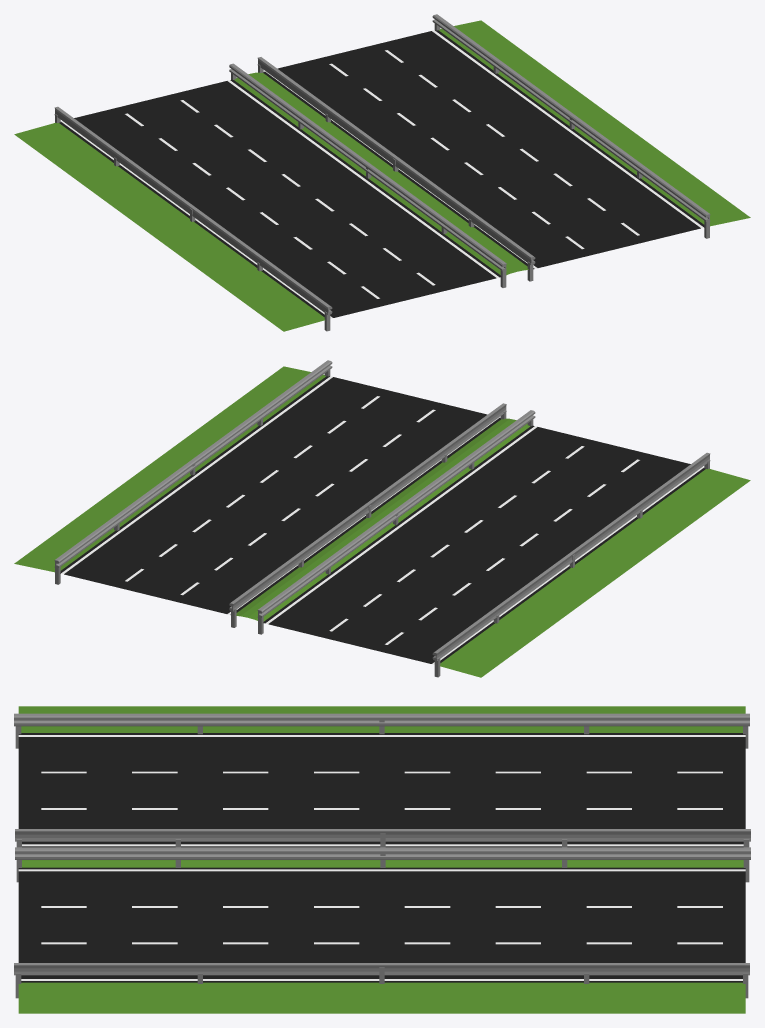
File: street_I_hway.fbx
3 renders of one model, top to bottom at view 1: azimuth 30°, elevation 25°; view 2: azimuth 150°, elevation 25°; view 3: azimuth 270°, elevation 25°, orthographic. The views are drawn at different scales.
Parts seen in each view (by area): view 1: street_I_hway; view 2: street_I_hway; view 3: street_I_hway.
Boxes of the visible parts, x1,y1,x2,y2 form: street_I_hway: (14,14,750,331); street_I_hway: (14,360,750,677); street_I_hway: (14,706,750,1013).
Size of the model in its own units: 3200 by 160 by 3244.
